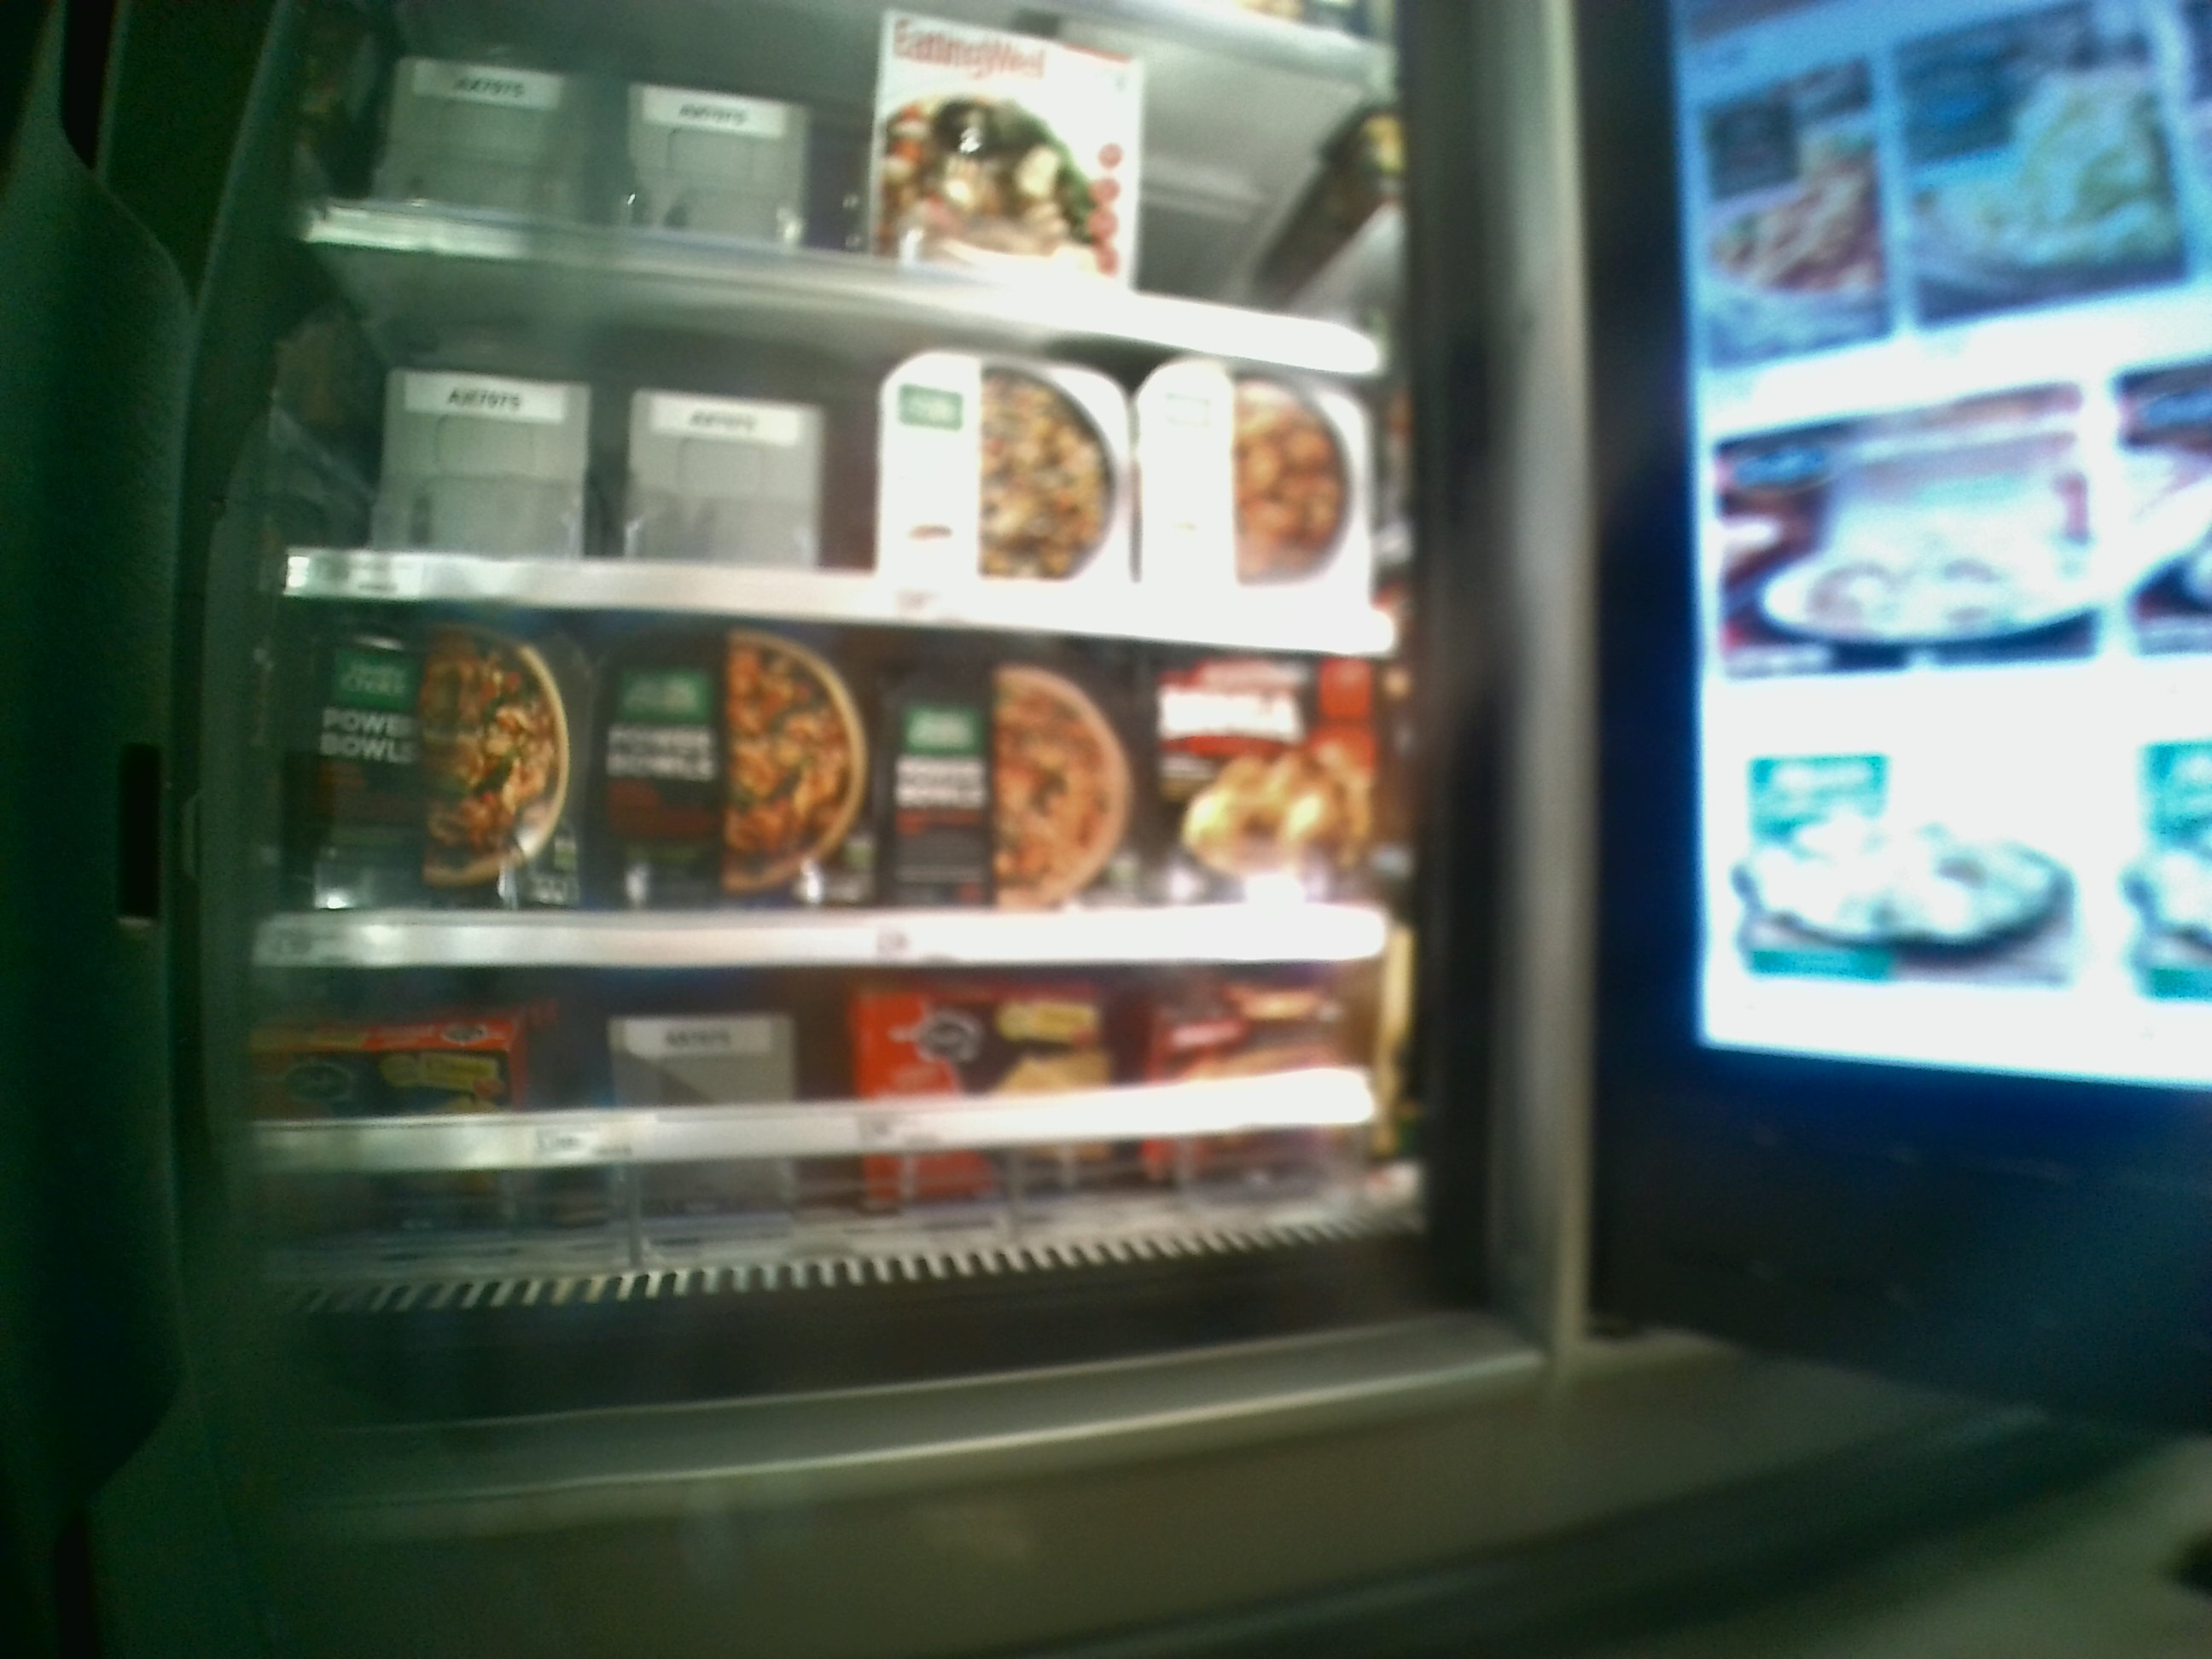shelf: (256, 591, 1411, 967), (216, 969, 1425, 1284)
